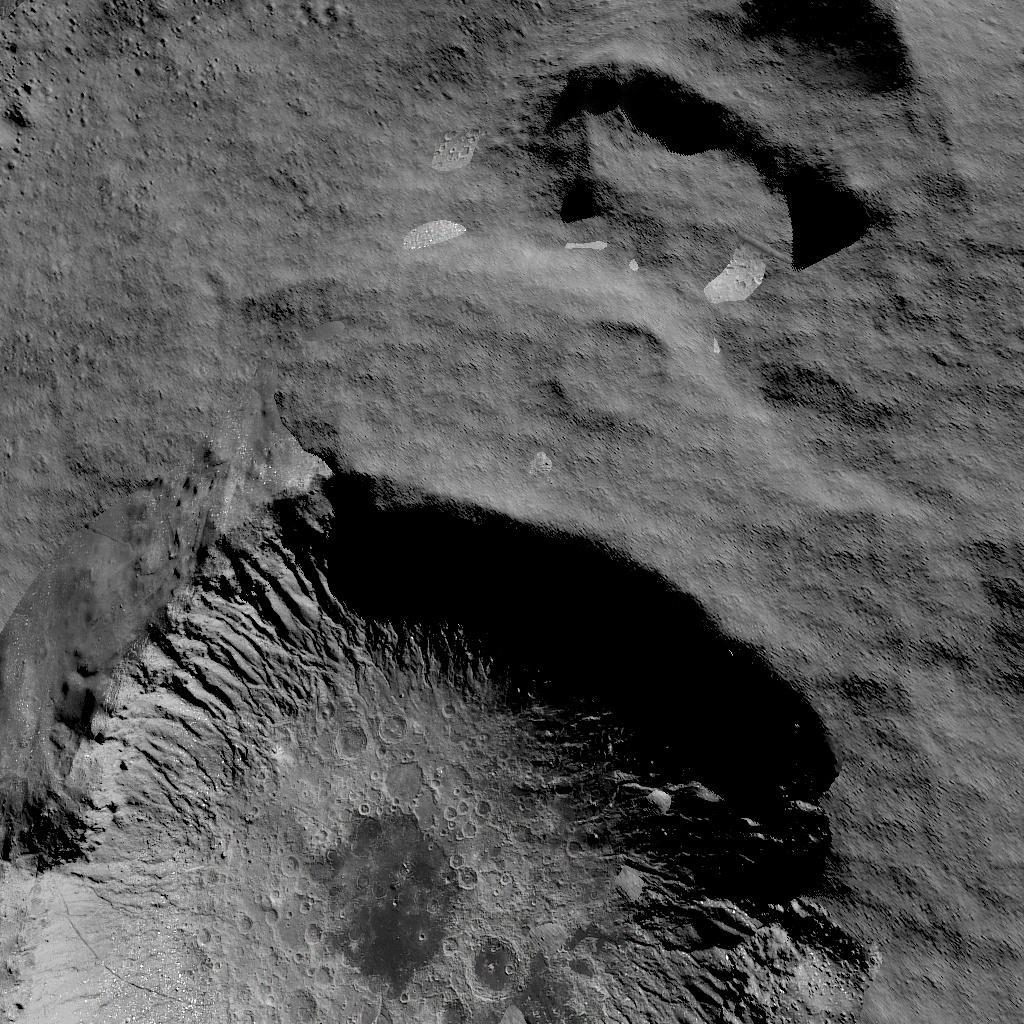Crater: (0, 458, 866, 1024), (535, 0, 927, 273), (547, 302, 682, 442)
Plan surface: (7, 0, 514, 442)
